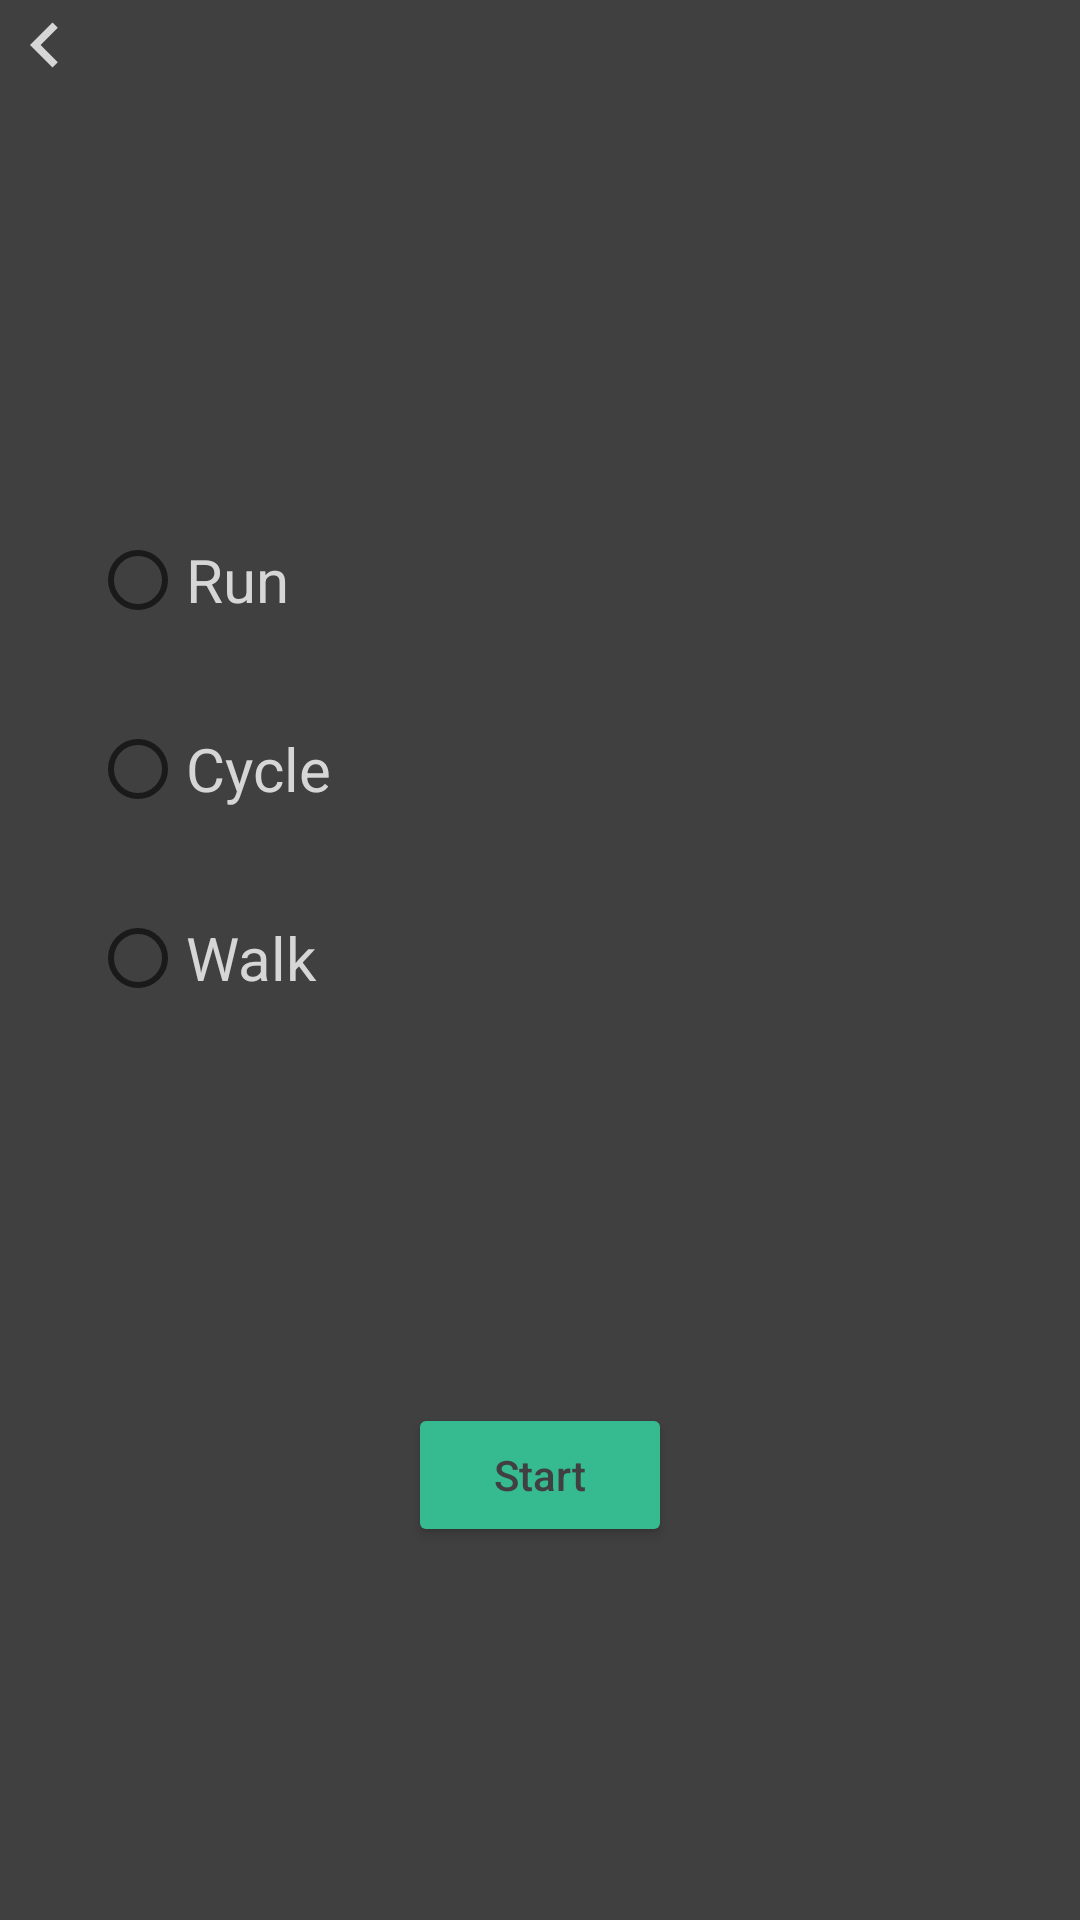

Named icons in this screenshot (1080x1920) and their centers, (x=x, y=y):
back: (x=44, y=45)
